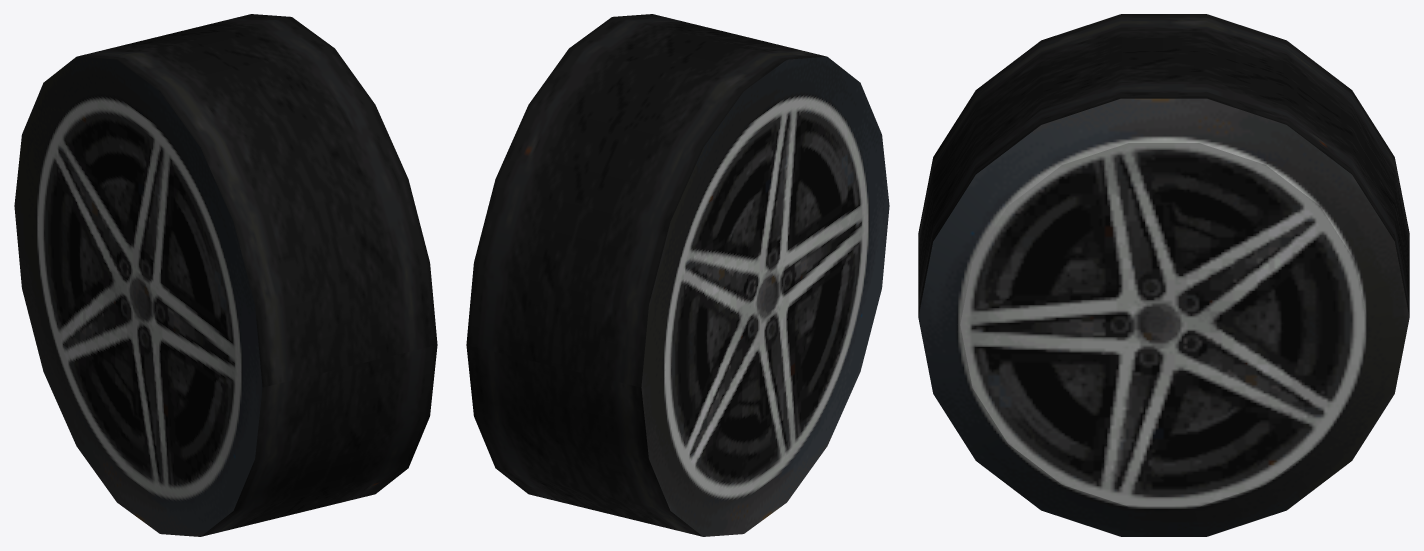
File: car_FL.FBX
The picture shows the model from 3 angles, left to right: view 1: azimuth 30°, elevation 25°; view 2: azimuth 150°, elevation 25°; view 3: azimuth 270°, elevation 25°; orthographic projection.
Visible parts, largest first — view 1: car_FL; view 2: car_FL; view 3: car_FL.
Part boxes in pixels (x1,y1,x2,y2): car_FL: [14, 14, 437, 536]; car_FL: [466, 14, 889, 536]; car_FL: [918, 14, 1409, 536].
Size of the model in its own units: 41.5 by 92.56 by 93.99.
Materials: 1 (1 with a texture image).
